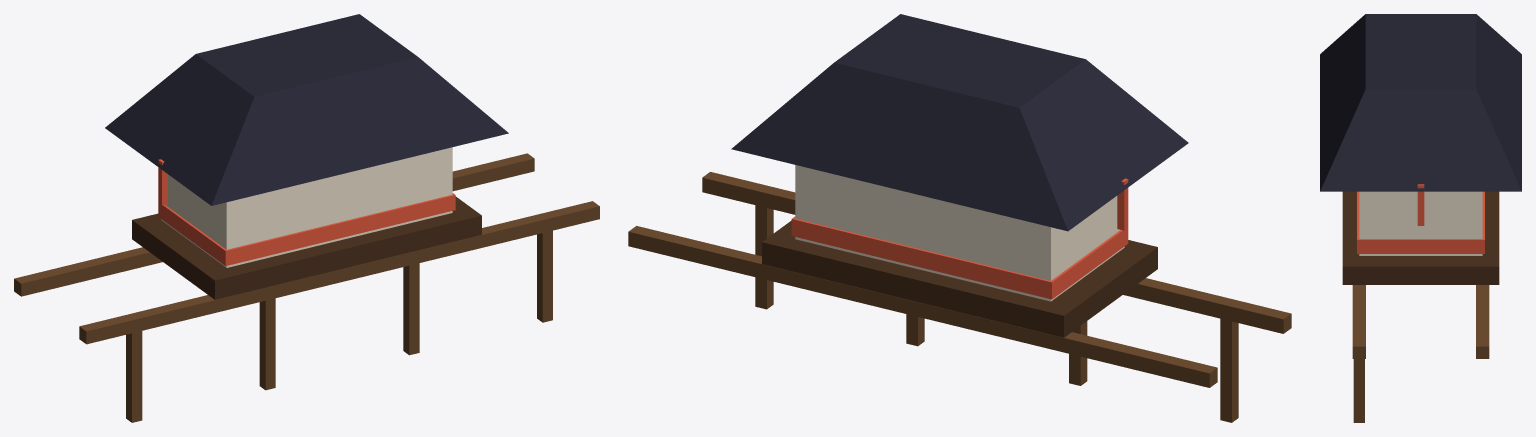
Rendered from prop_sangyeo.glb.
The picture shows the model from 3 angles, left to right: view 1: azimuth 30°, elevation 25°; view 2: azimuth 150°, elevation 25°; view 3: azimuth 270°, elevation 25°; orthographic projection. The views are drawn at different scales.
Parts seen in each view (by area): view 1: prop_sangyeo; view 2: prop_sangyeo; view 3: prop_sangyeo.
Boxes of the visible parts, x1,y1,x2,y2 form: prop_sangyeo: (14, 14, 599, 422); prop_sangyeo: (628, 14, 1291, 422); prop_sangyeo: (1320, 14, 1521, 422).
Bounding box in the file's own units: 5 × 2.7 × 1.8.
